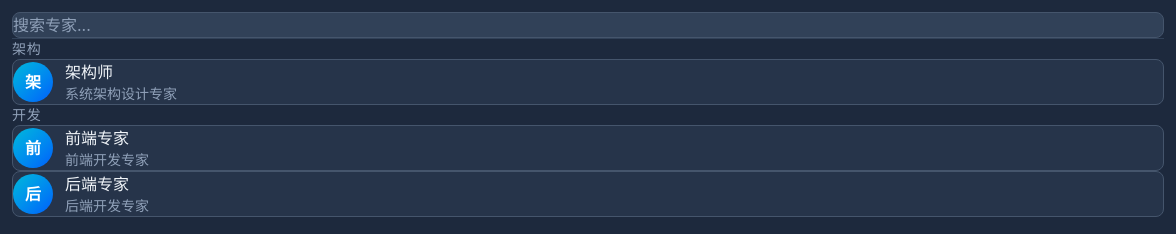
Test: ExpertList › 应该支持按标签搜索
Type "React" into the field with placeholder "搜索专家..." at (588, 25), box [12, 12, 1164, 38]
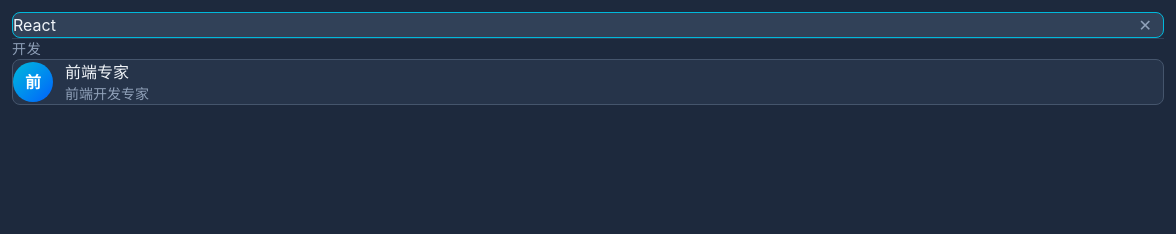
expect the heading "前端专家" is shown: met, box [65, 62, 129, 82]
expect the button "架构师" is gone: met
